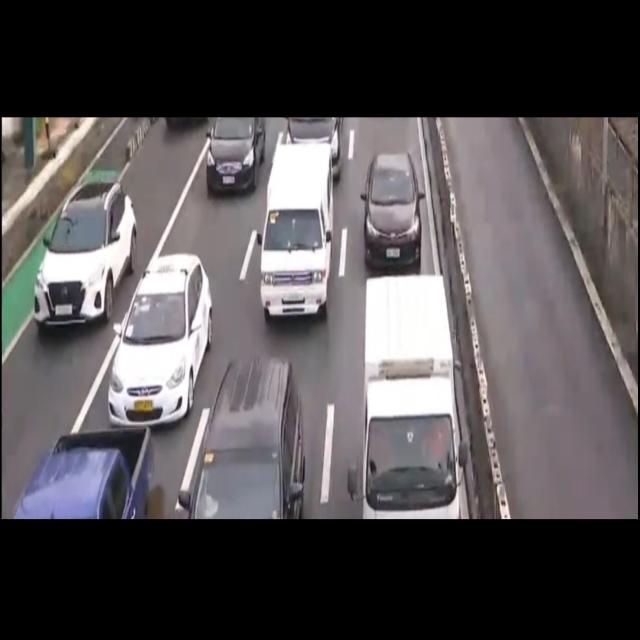Pick-up: (260, 141, 336, 330)
SUV: (189, 361, 308, 520), (31, 181, 135, 335), (9, 425, 153, 517)
Sedan: (108, 249, 210, 424), (359, 150, 423, 268)
Truck: (353, 274, 468, 520)
